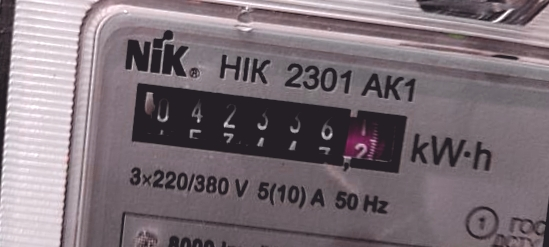0: (153, 95, 172, 125)
1: (356, 115, 370, 138)
2: (221, 100, 240, 130), (351, 140, 369, 160)
3: (284, 105, 304, 136), (253, 103, 271, 132)
4: (187, 94, 207, 125)
6: (318, 111, 338, 143)
screen: (117, 68, 421, 186)
